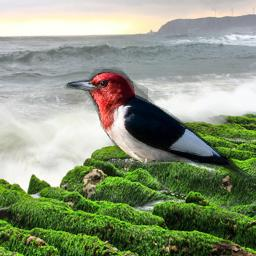Woodpecker: (62, 69, 253, 183)
